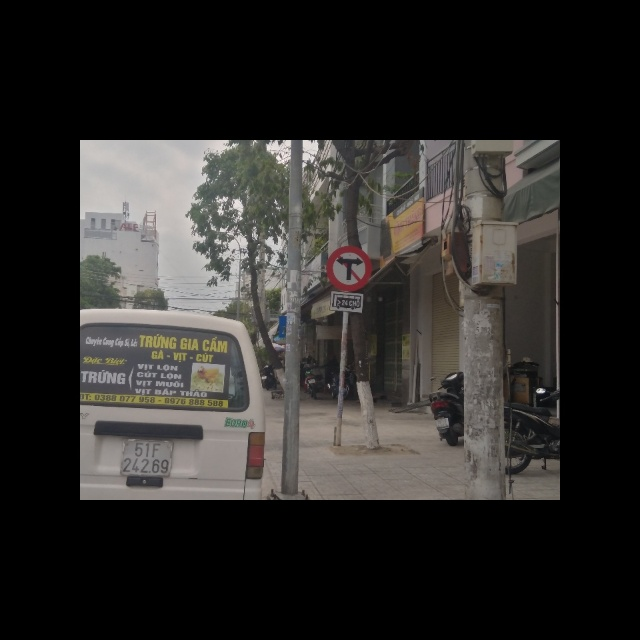Cấm rẽ trái và rẽ phải: (326, 244, 373, 291)
